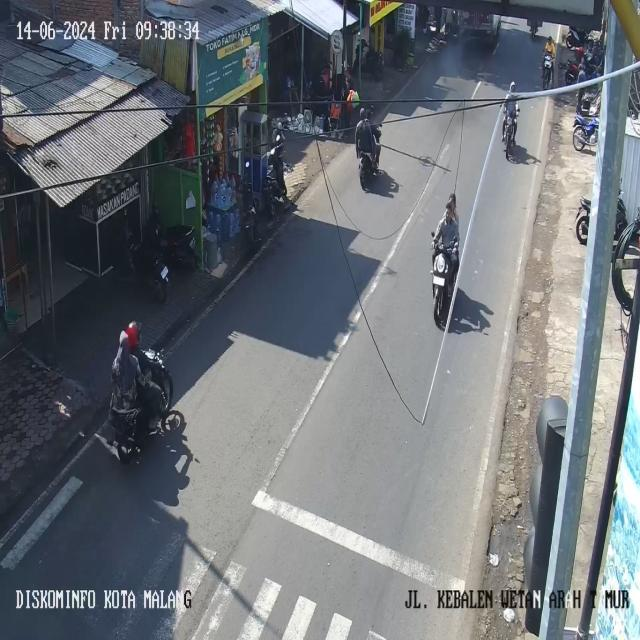Helmet: (125, 321, 140, 350), (360, 107, 365, 119), (509, 81, 515, 91), (366, 108, 371, 118), (547, 36, 552, 42)
Number Plate: (433, 276, 444, 286), (161, 266, 167, 278)
